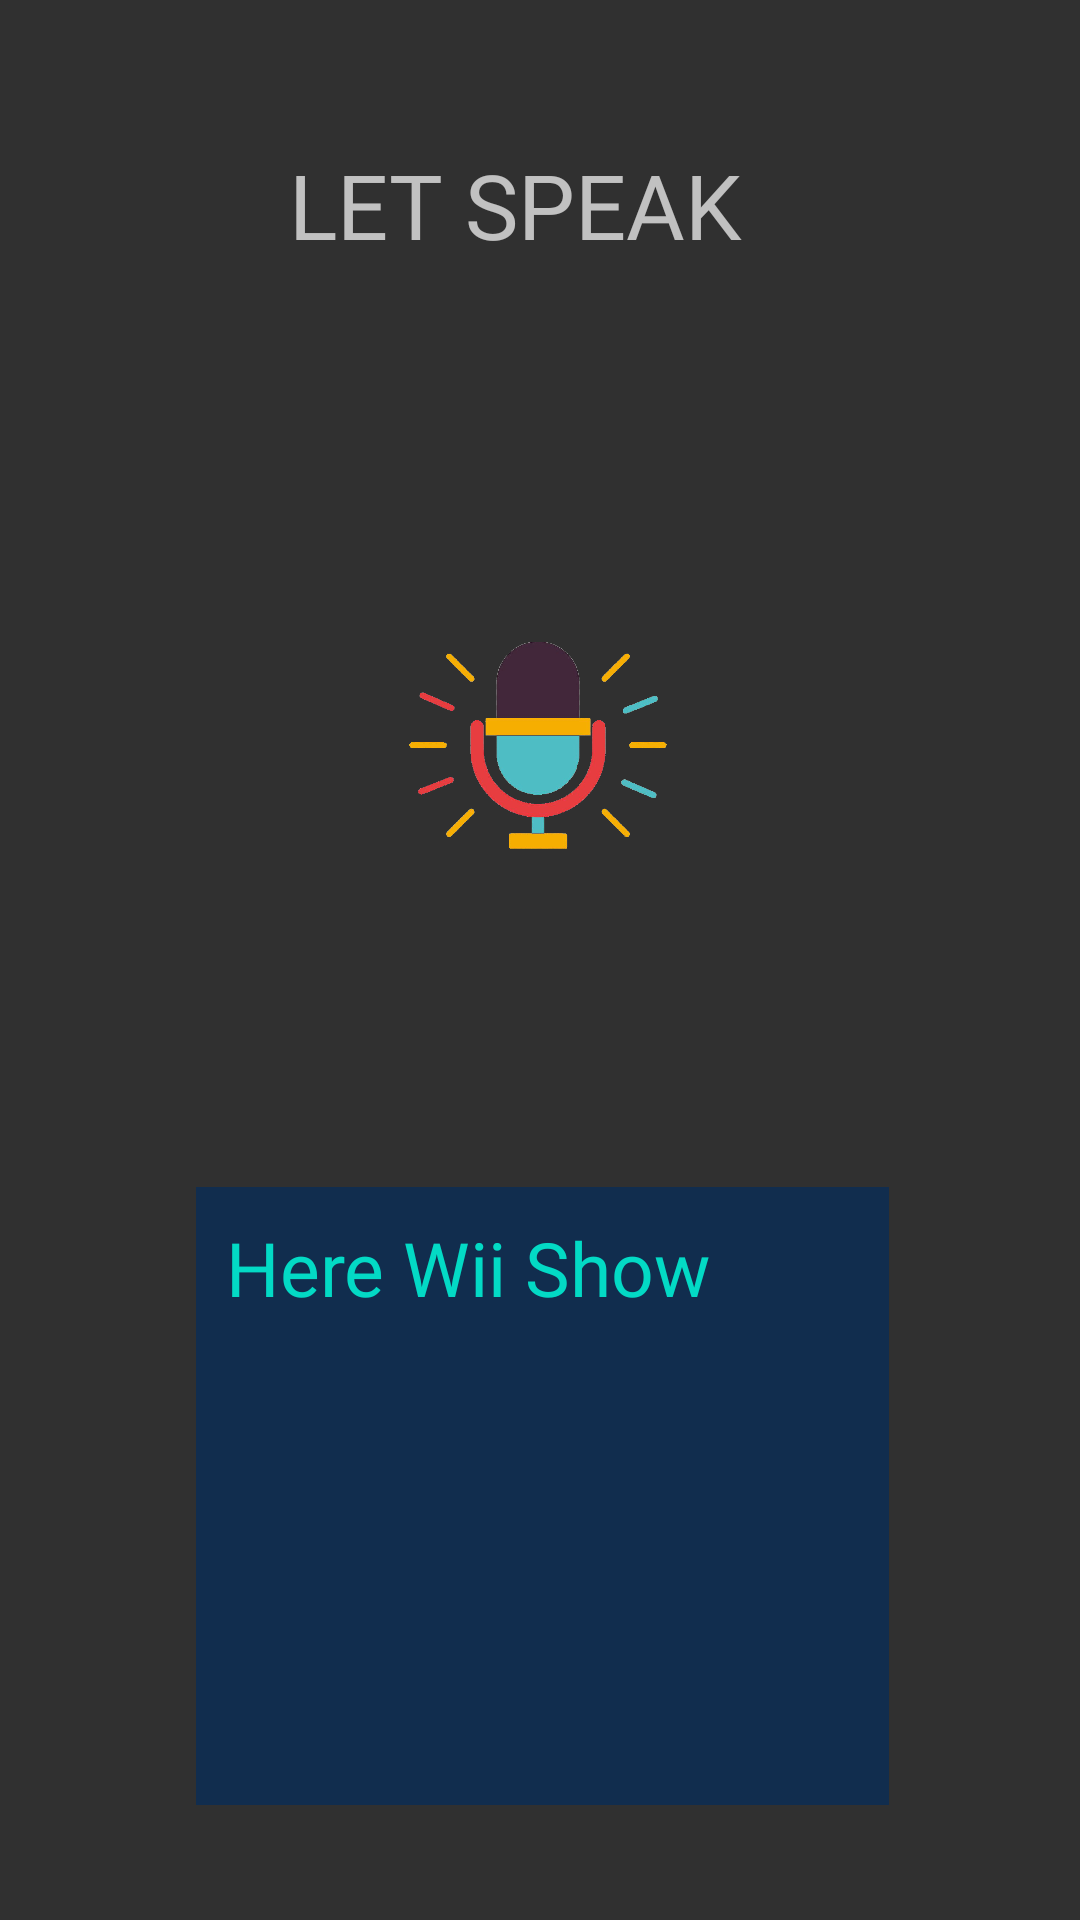

Icons on this 1080px x 1920px Android screen, each with its box as Rect(x1, y1, x2, y2):
mic: Rect(409, 642, 667, 849)
